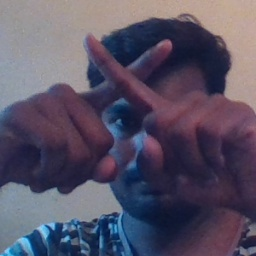X: (53, 25, 192, 167)
